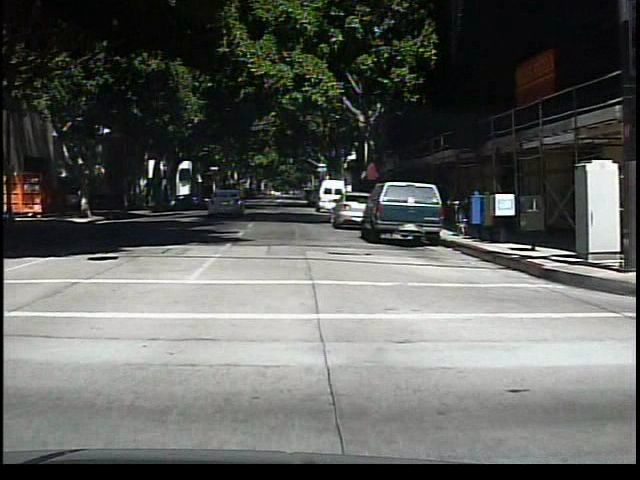person: (67, 184, 83, 220)
